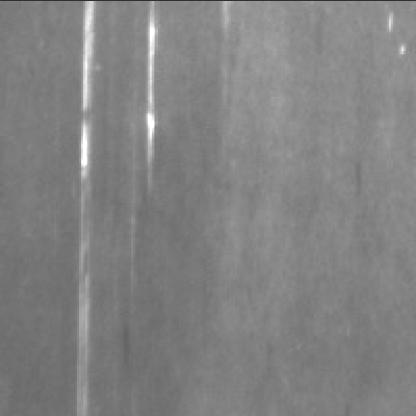scratches: (74, 0, 108, 408), (142, 0, 165, 191)
